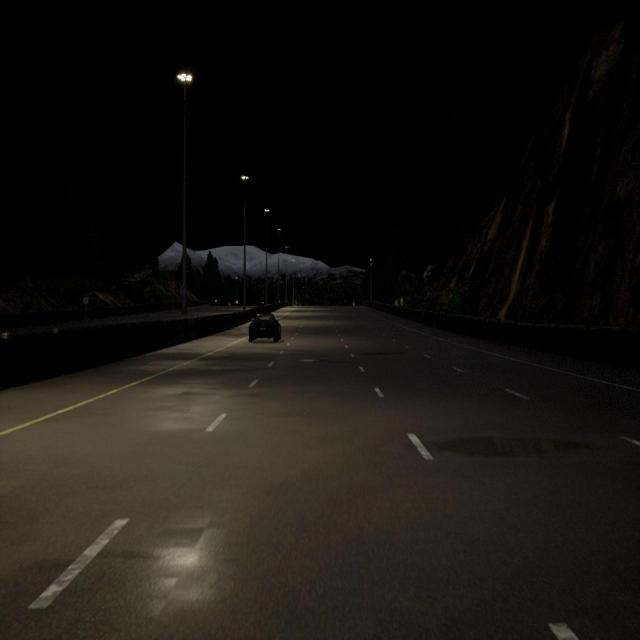Traffic_Signs: (83, 298, 89, 304)
Vehicle: (248, 314, 282, 343)
